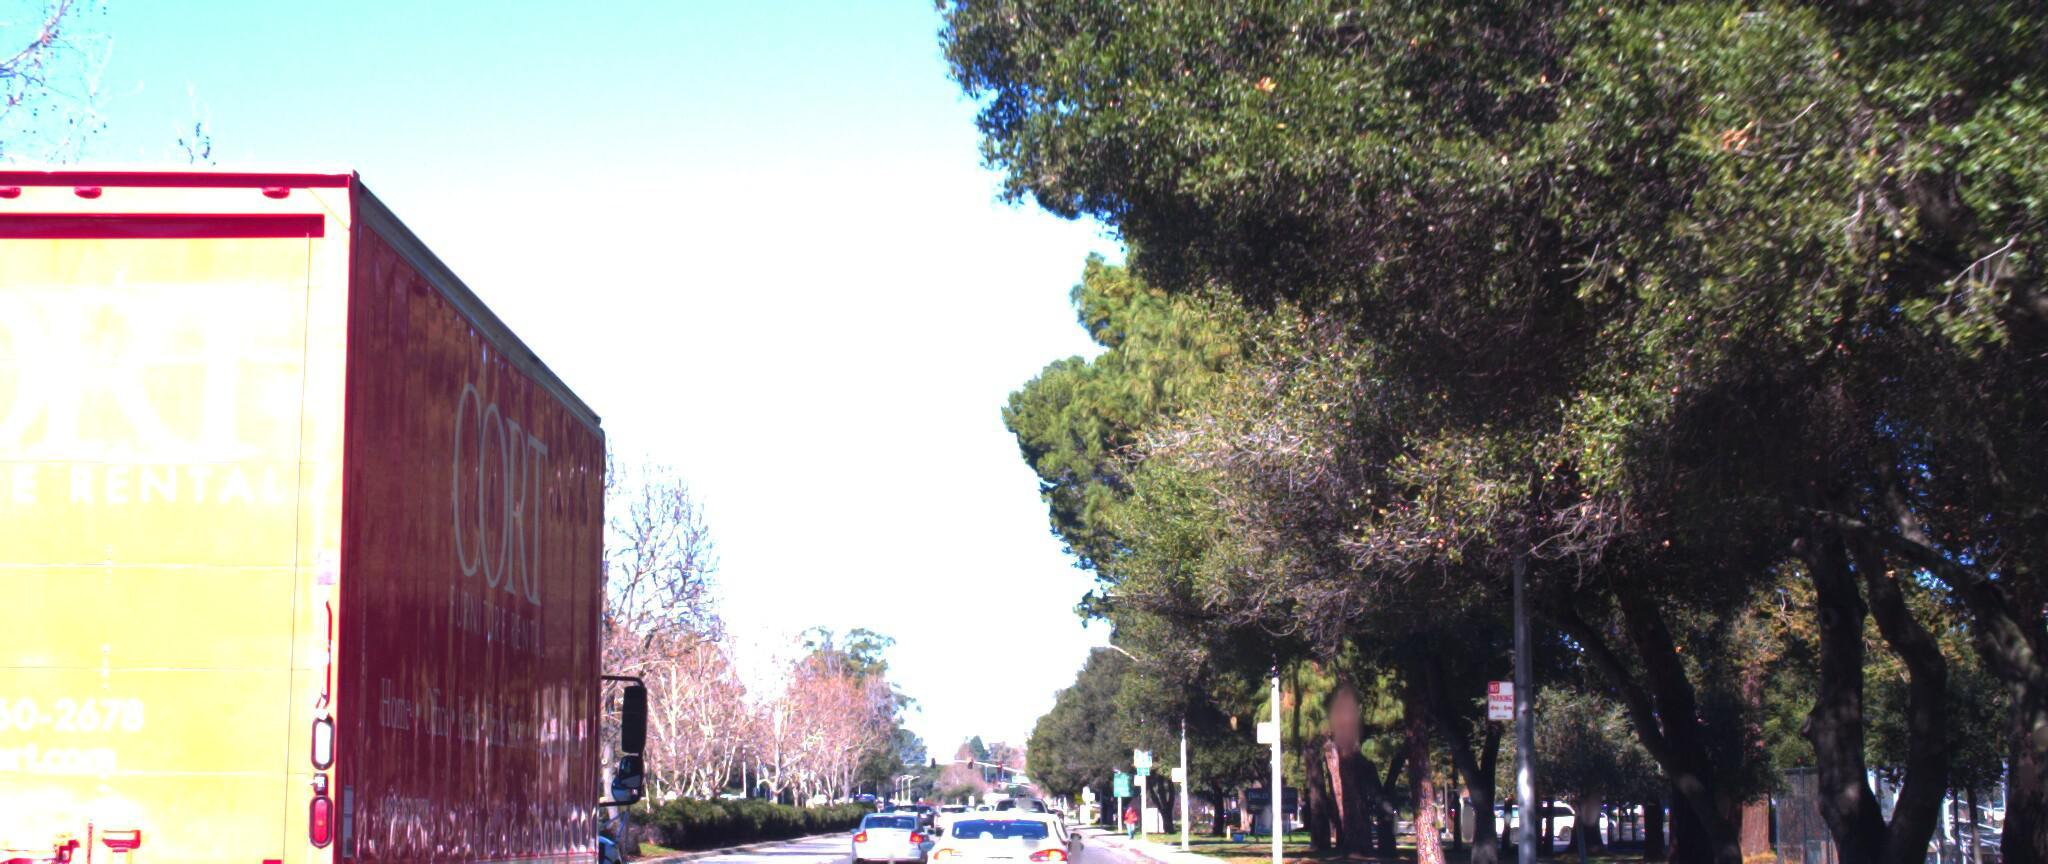car: (905, 784, 1075, 864), (953, 782, 1070, 864), (846, 784, 936, 850)
truck: (0, 63, 714, 864)
